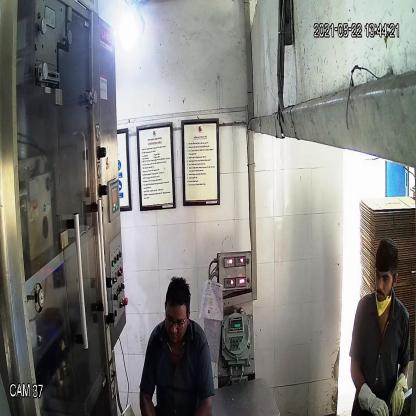goggles: (163, 307, 190, 333)
no_goggles: (374, 266, 396, 288)
